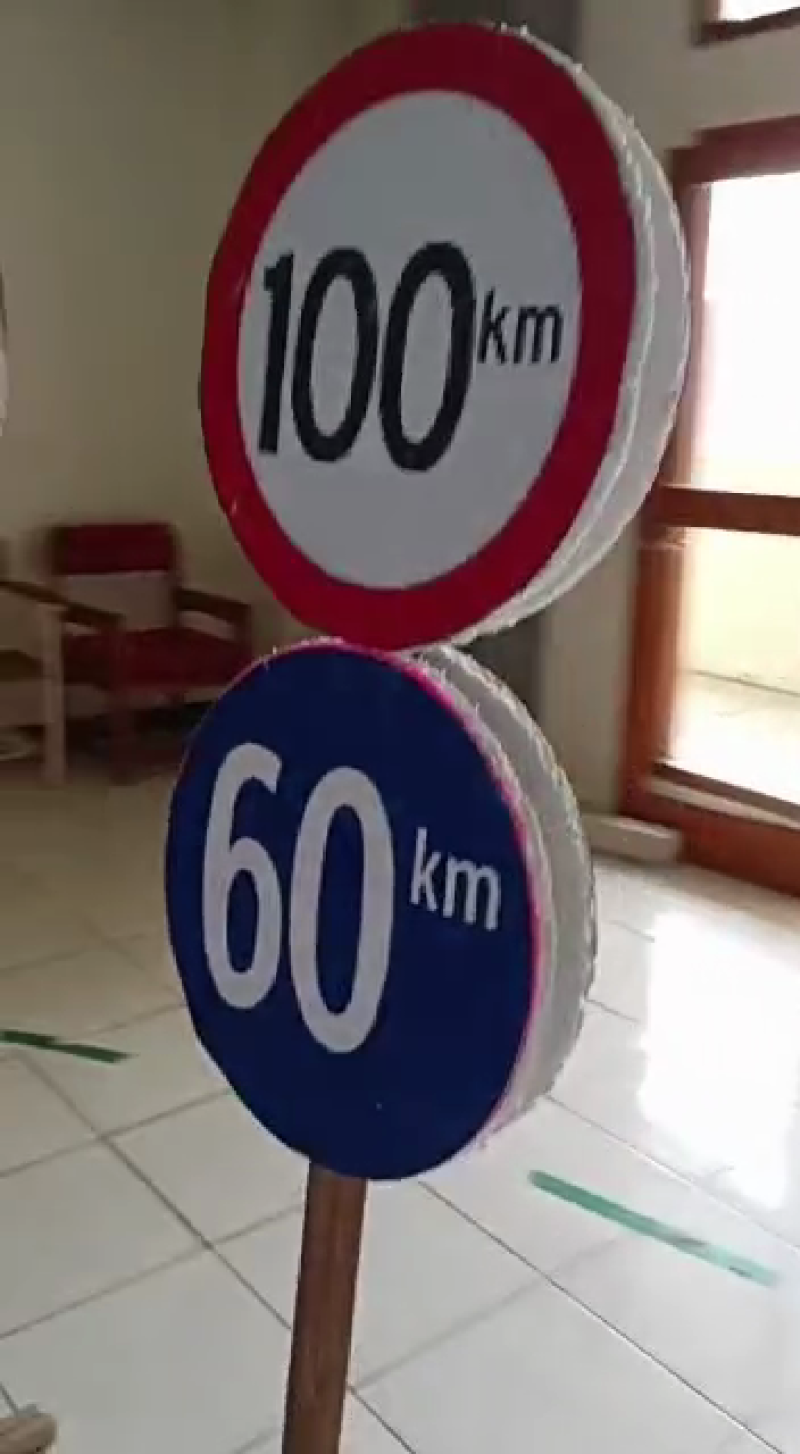batas maksimal 100kmperjam minimal 60kmperjam: (155, 15, 652, 1174)
